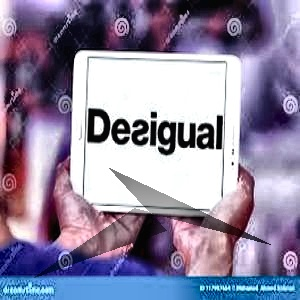desigual: (181, 52, 268, 157)
